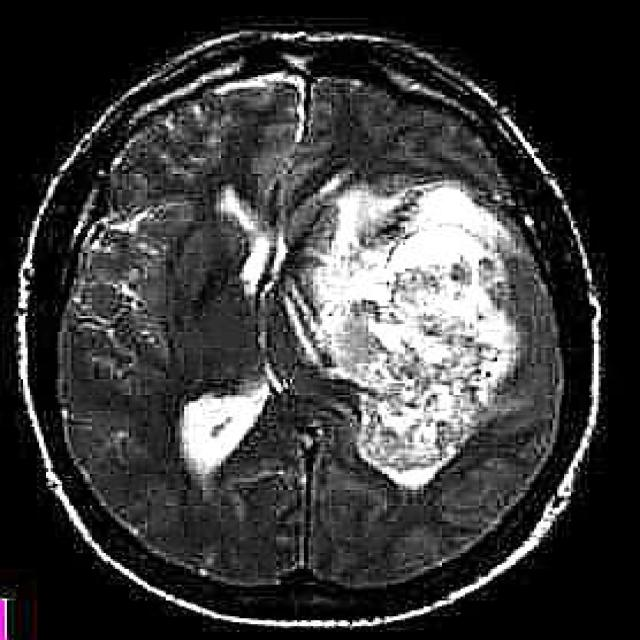Tumor-Cell: (272, 169, 516, 489), (102, 354, 256, 490)
